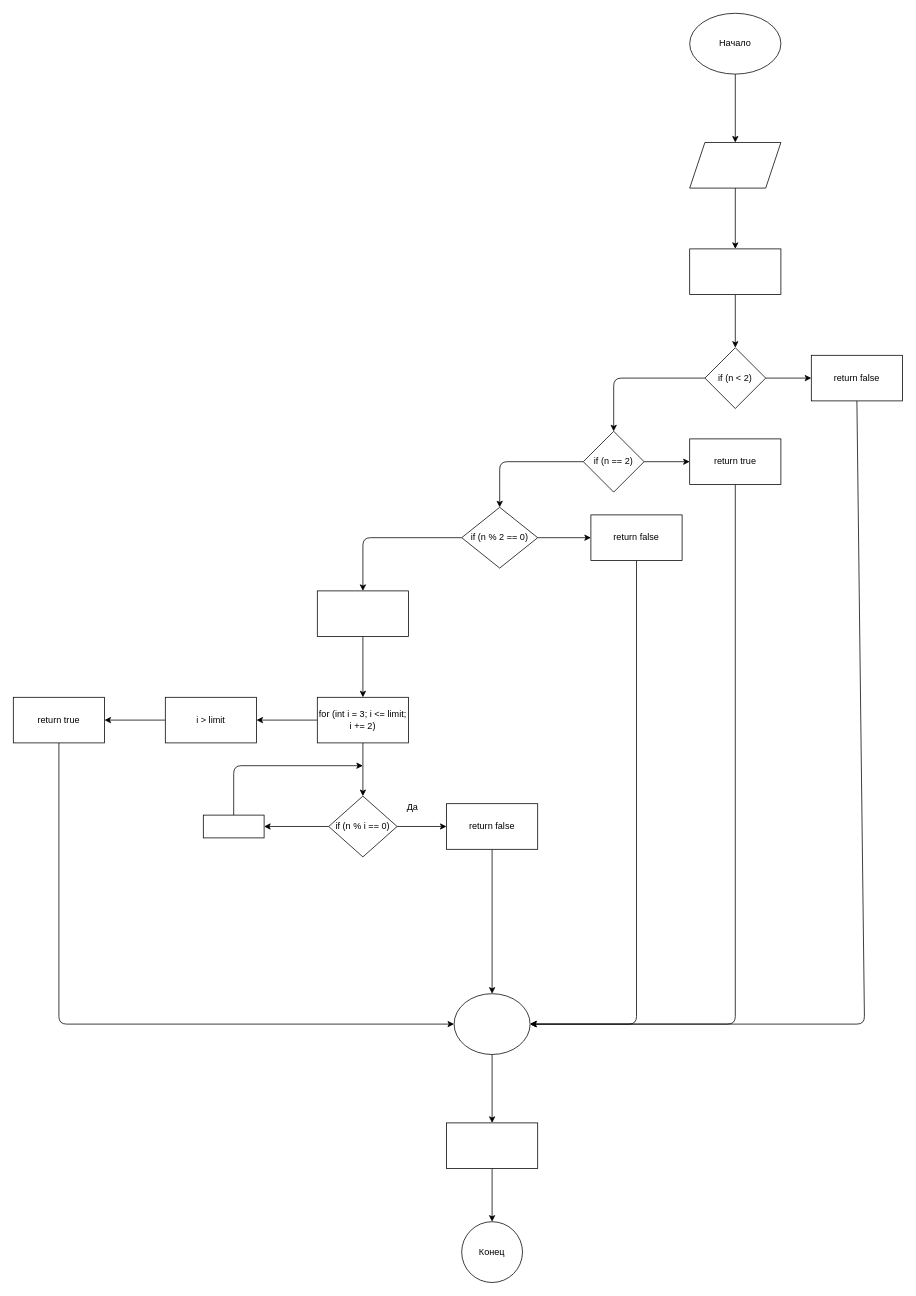
Some shapes in this 916 by 1296 pixel diagram are drawn without their labels. Each missing label, with the centre of its shape:
"i++" goes at (x=233, y=826).
"int limit = (int)Math.Sqrt(n)" goes at (x=362, y=613).
"Ввод числа" goes at (x=735, y=165).
"Вывод" goes at (x=492, y=1145).
"Конец isPrime" goes at (x=491, y=1023).
"Начало isPrime" goes at (x=735, y=271).
